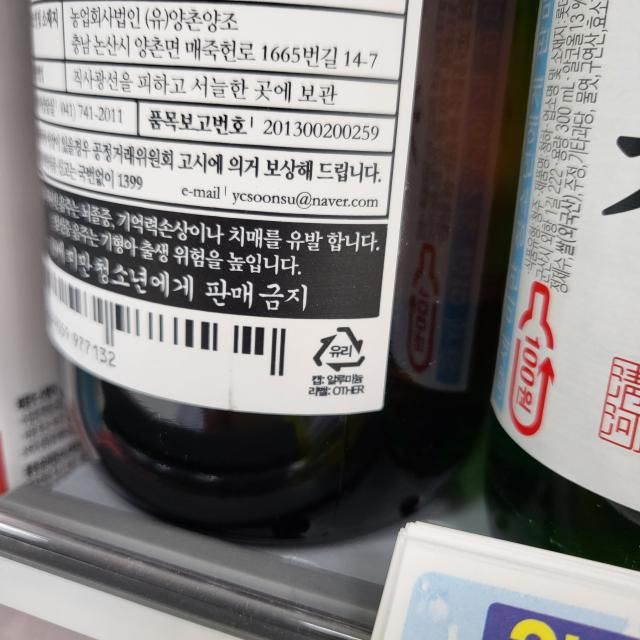Glass: (310, 323, 368, 375)
